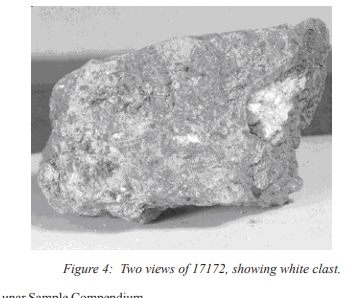Breccia: (46, 12, 328, 241), (39, 68, 295, 208)
